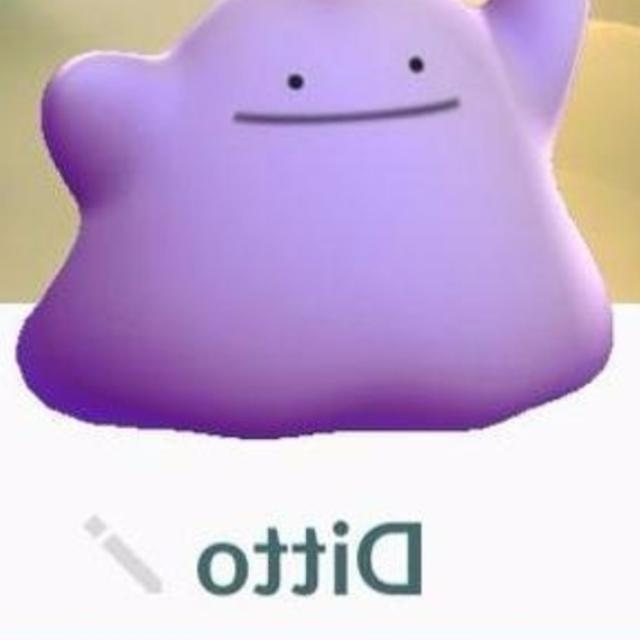Ditto: (12, 3, 598, 438)
